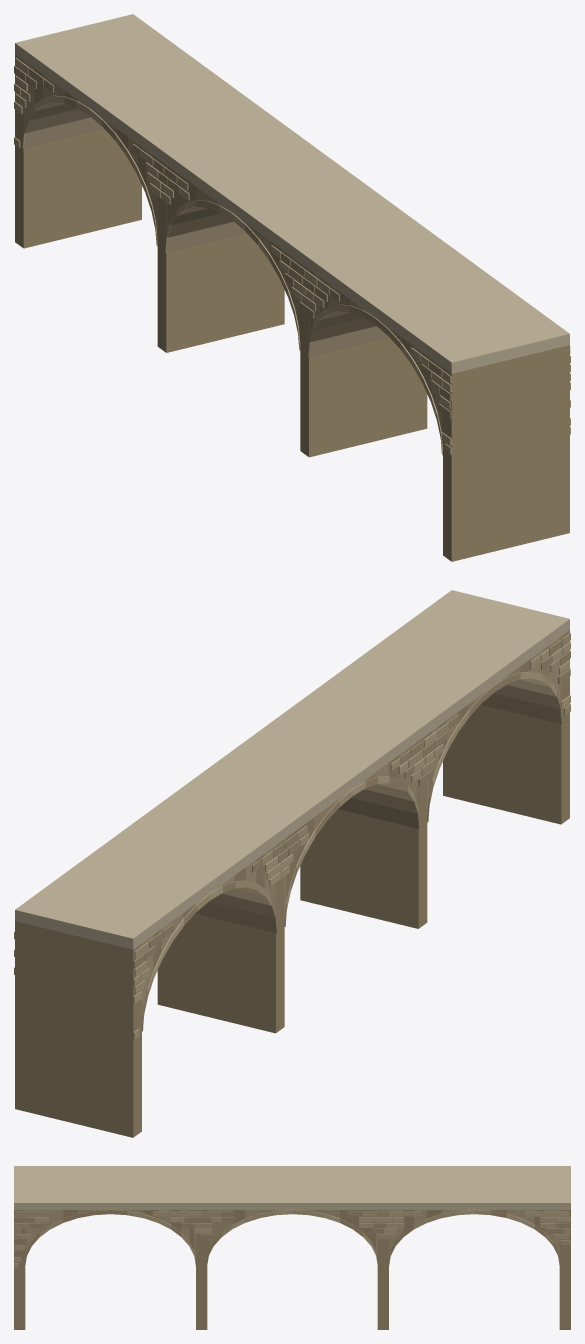
File: bridge-stone-32.glb
3 renders of one model, top to bottom at view 1: azimuth 30°, elevation 25°; view 2: azimuth 150°, elevation 25°; view 3: azimuth 270°, elevation 25°, orthographic. The views are drawn at different scales.
Visible parts, largest first — view 1: Deck | pale paving, Pier 04 | bank foundation, Pier 02 | bank foundation, Pier 03 | bank foundation, Pier 01 | bank foundation, Arch 02 | vault 15, Arch 01 | vault 15, Arch 03 | vault 15, Arch 02 | vault 14, Arch 01 | vault 14, Arch 03 | vault 14; view 2: Deck | pale paving, Pier 01 | bank foundation, Pier 02 | bank foundation, Pier 03 | bank foundation, Pier 04 | bank foundation, Arch 02 | vault 00, Arch 01 | vault 00, Arch 03 | vault 00, Arch 02 | vault 01, Arch 01 | vault 01, Arch 03 | vault 01; view 3: Deck | pale paving, Pier 02 | bank foundation, Pier 03 | bank foundation, Pier 01 | bank foundation, Pier 04 | bank foundation.
Part boxes in pixels (x1,y1,x2,y2): Deck | pale paving: [15, 14, 569, 373]; Pier 04 | bank foundation: [443, 345, 569, 561]; Pier 02 | bank foundation: [157, 159, 284, 352]; Pier 03 | bank foundation: [300, 263, 427, 457]; Pier 01 | bank foundation: [15, 54, 141, 248]; Arch 02 | vault 15: [166, 165, 246, 252]; Arch 01 | vault 15: [23, 61, 103, 148]; Arch 03 | vault 15: [309, 269, 389, 356]; Arch 02 | vault 14: [167, 166, 233, 237]; Arch 01 | vault 14: [25, 61, 90, 133]; Arch 03 | vault 14: [310, 270, 375, 341]; Deck | pale paving: [15, 590, 569, 949]; Pier 01 | bank foundation: [15, 921, 141, 1137]; Pier 02 | bank foundation: [157, 839, 284, 1033]; Pier 03 | bank foundation: [300, 735, 427, 928]; Pier 04 | bank foundation: [443, 630, 569, 824]; Arch 02 | vault 00: [338, 741, 418, 828]; Arch 01 | vault 00: [195, 845, 275, 932]; Arch 03 | vault 00: [481, 637, 561, 724]; Arch 02 | vault 01: [351, 742, 417, 813]; Arch 01 | vault 01: [209, 846, 274, 917]; Arch 03 | vault 01: [494, 637, 559, 709]; Deck | pale paving: [14, 1166, 570, 1209]; Pier 02 | bank foundation: [377, 1210, 388, 1329]; Pier 03 | bank foundation: [196, 1210, 207, 1329]; Pier 01 | bank foundation: [559, 1210, 570, 1329]; Pier 04 | bank foundation: [14, 1210, 25, 1329].
Bounding box in the file's own units: 5.1 × 8.05 × 32.
